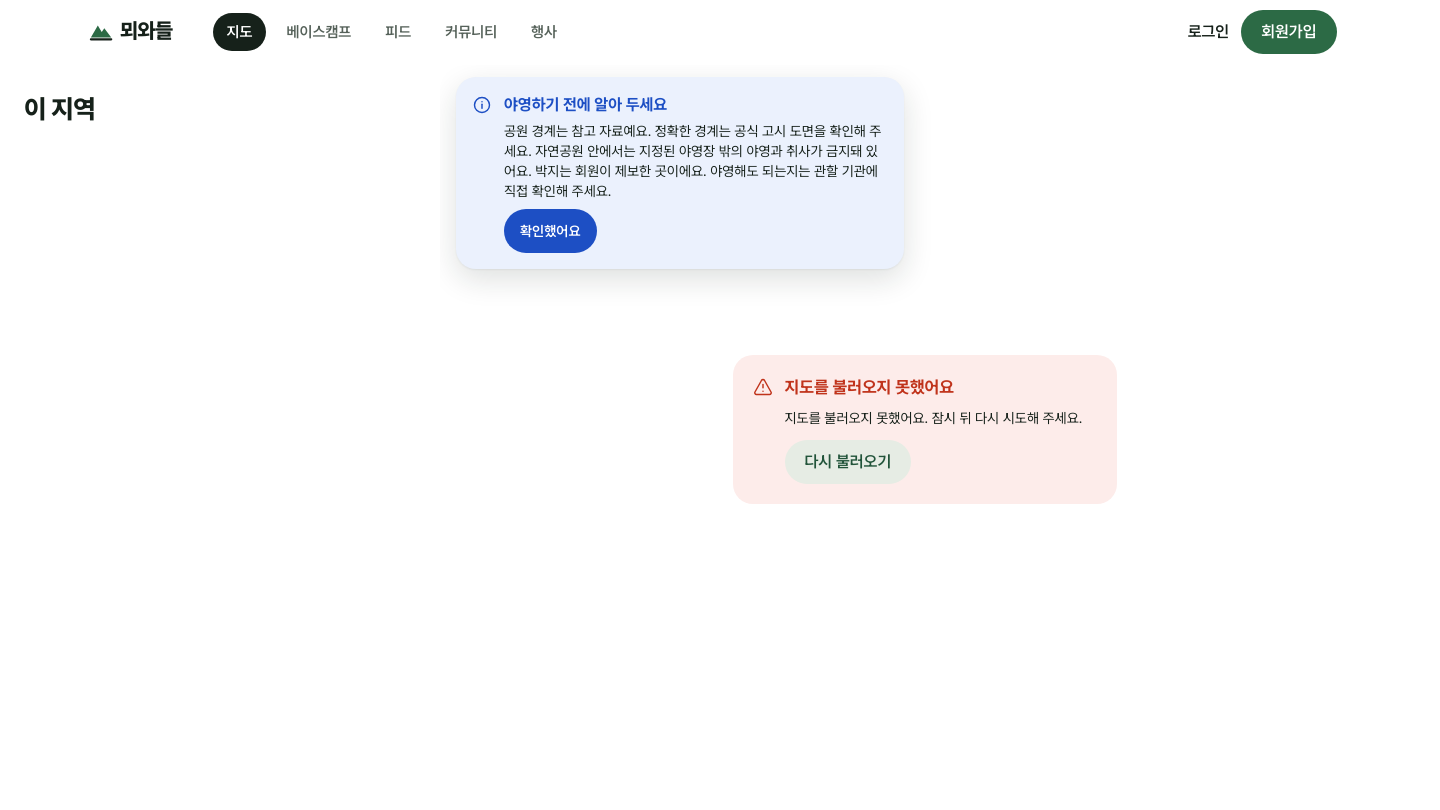
Test: MapPage › 지도 만들기 › 불러오기에 실패한 뒤 "다시 불러오기"를 누르면 지도를 다시 만들고 안내를 걷는다
Click the button "다시 불러오기" at (848, 462), box [784,440,911,484]
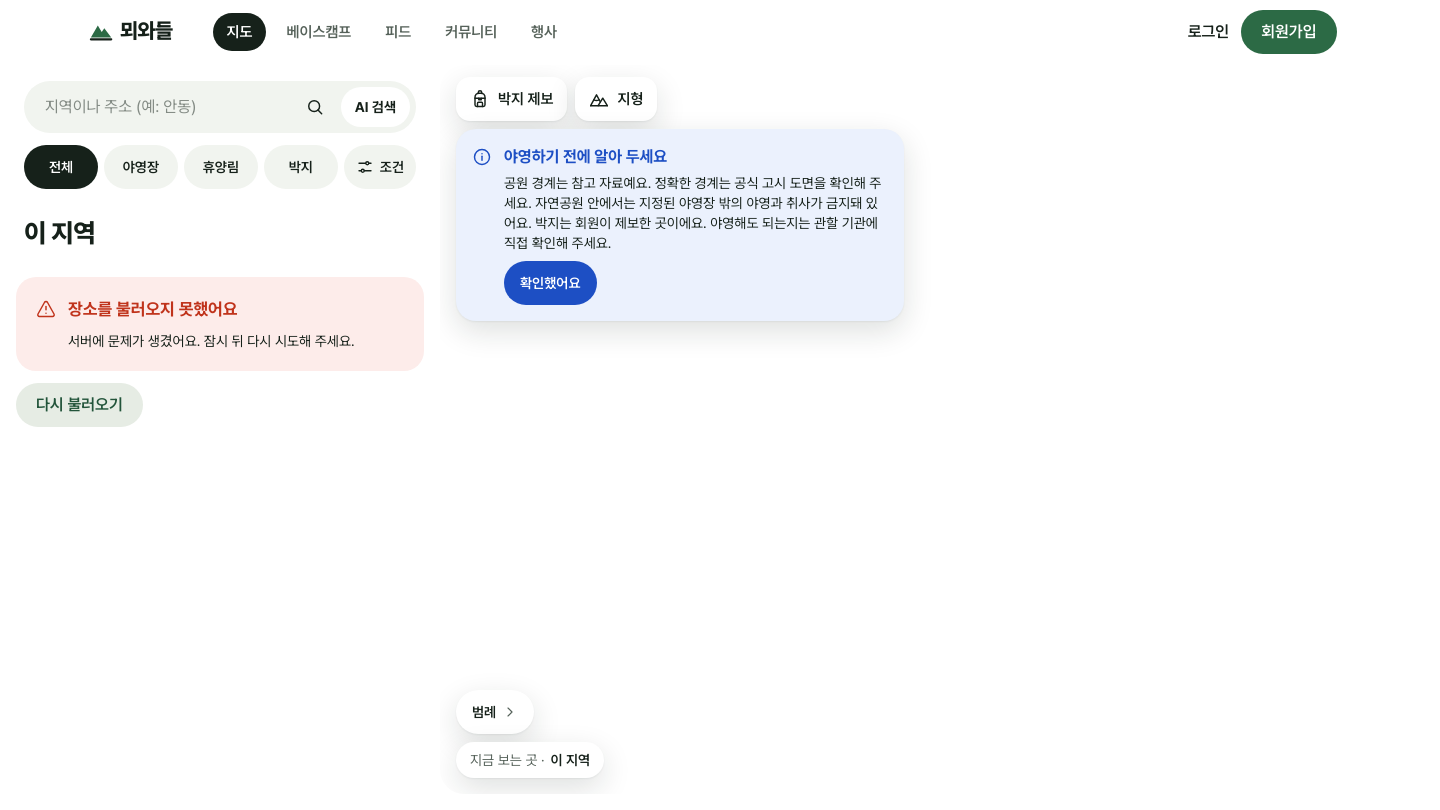
Result: the text "지도를 불러오지 못했어요" is gone
